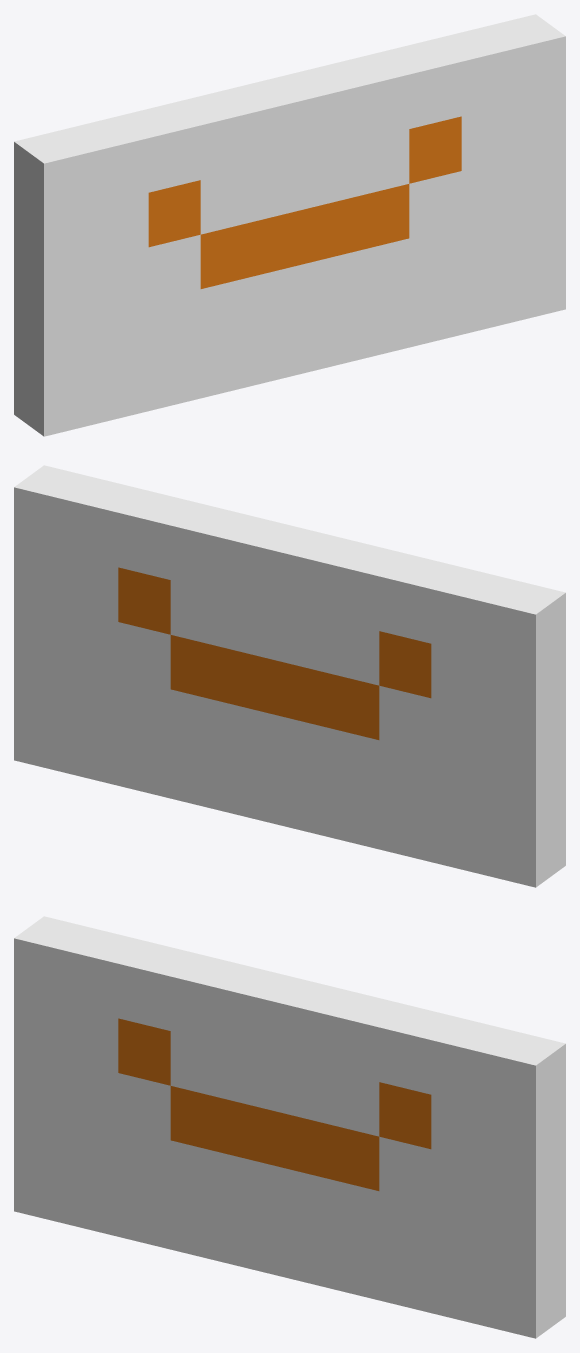
File: Cheecks.fbx
3 views of the same model, one above another, from view 1: azimuth 30°, elevation 25°; view 2: azimuth 150°, elevation 25°; view 3: azimuth 330°, elevation 25° (orthographic).
Parts seen in each view (by area): view 1: eye-shapes081, eye-shapes; view 2: eye-shapes081, eye-shapes; view 3: eye-shapes081, eye-shapes.
Boxes of the visible parts, x1,y1,x2,y2 form: eye-shapes081: [14, 14, 565, 436]; eye-shapes: [148, 116, 461, 288]; eye-shapes081: [14, 465, 565, 887]; eye-shapes: [118, 567, 431, 739]; eye-shapes081: [14, 916, 565, 1338]; eye-shapes: [118, 1018, 431, 1190].
Bounding box in the file's own units: 100 × 50 × 10.
Materials: 2 (2 with a texture image).
